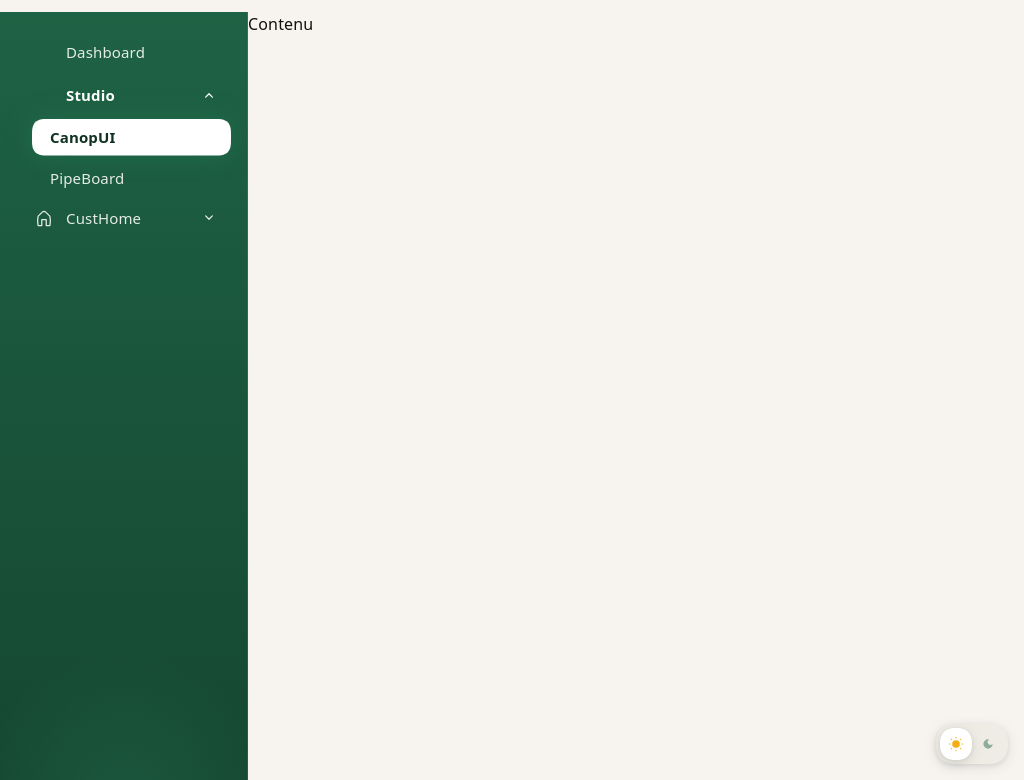
Scenario: Navbar sous-items — a11y et cycle de vie › reinitialise l'etat d'ouverture quand la navigation change de section
Check: the link "CanopUI" is shown, box 32,119 -> 231,156
Check: the link "CasaPlan" is not shown
Click the link "CustHome" at (126, 218), box 34,208 -> 219,228
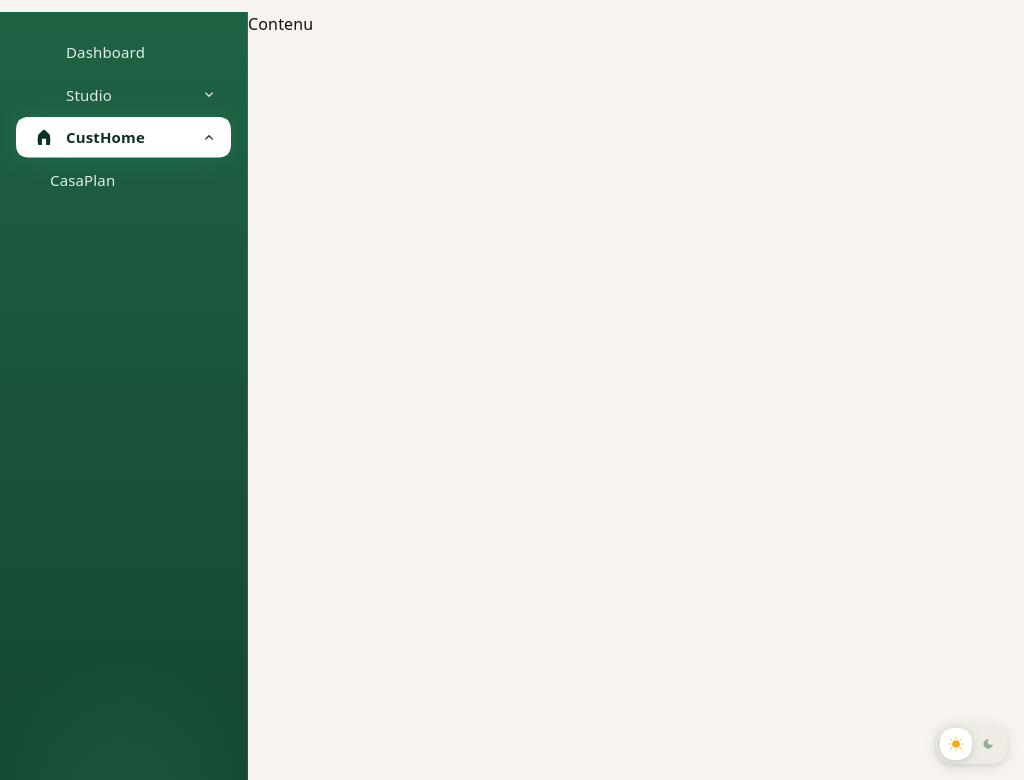
Check: the link "Studio" is collapsed, box 66,84 -> 219,105
Check: the link "CanopUI" is gone
Check: the link "CasaPlan" is shown, box 50,170 -> 115,190
